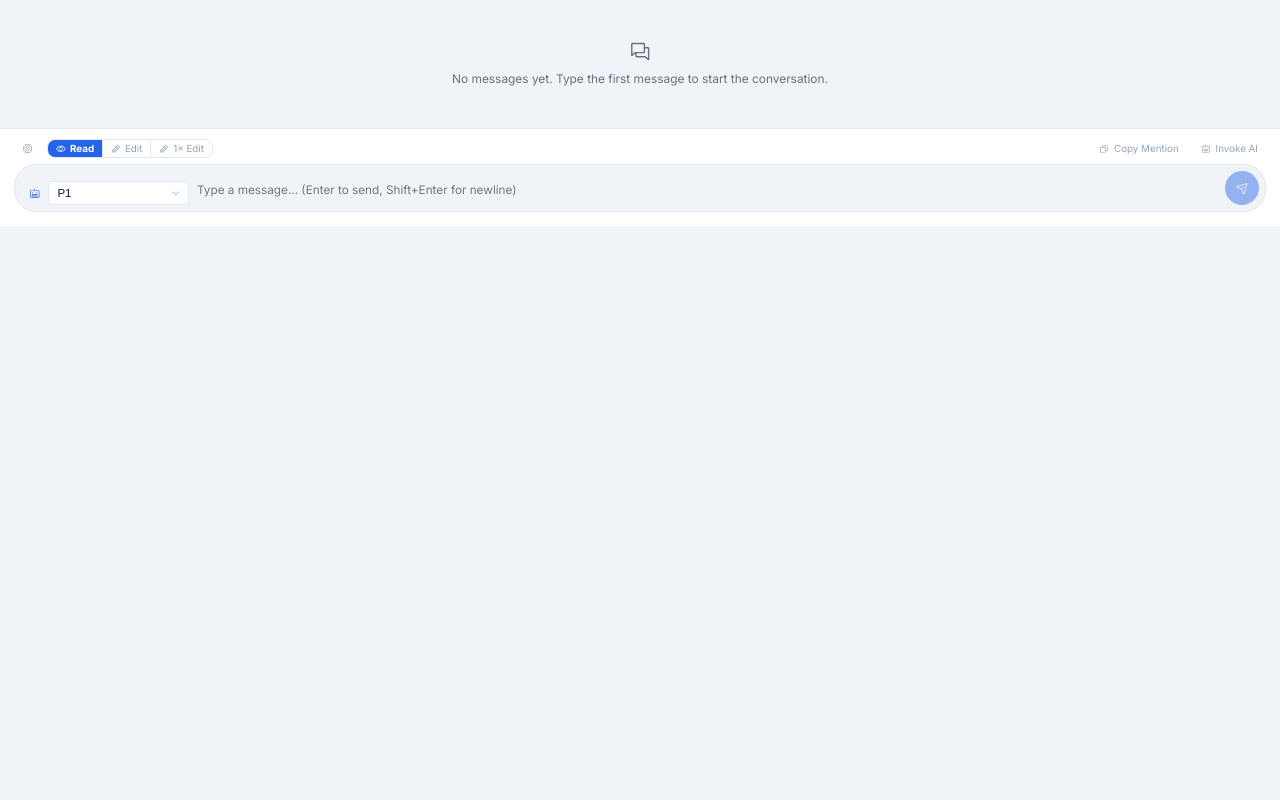
it: ConversationView send-time action › keeps the dialog open and shows the server message when saving fails
Click the button with class "conv-gear-btn": point(28, 149) [14, 140, 41, 157]
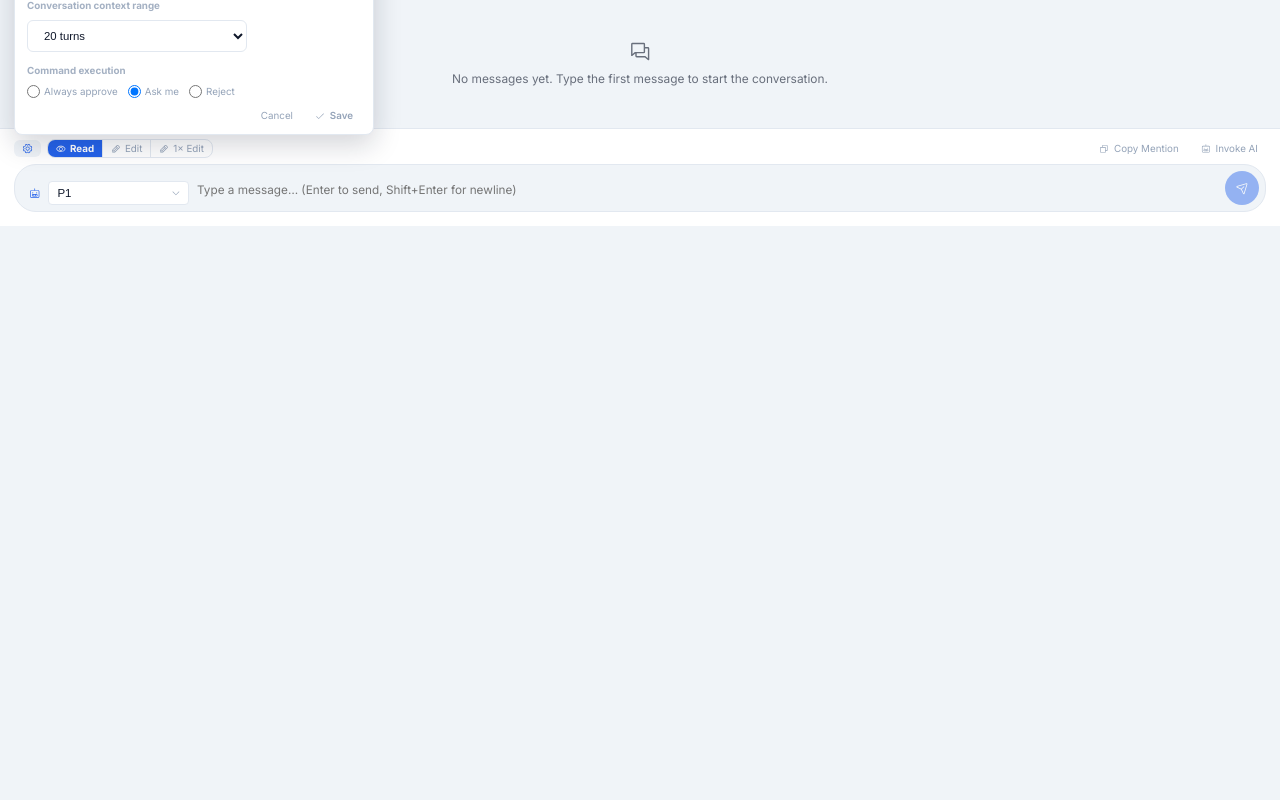
Click the button with class "conv-settings-save": point(334, 116) [307, 107, 361, 124]
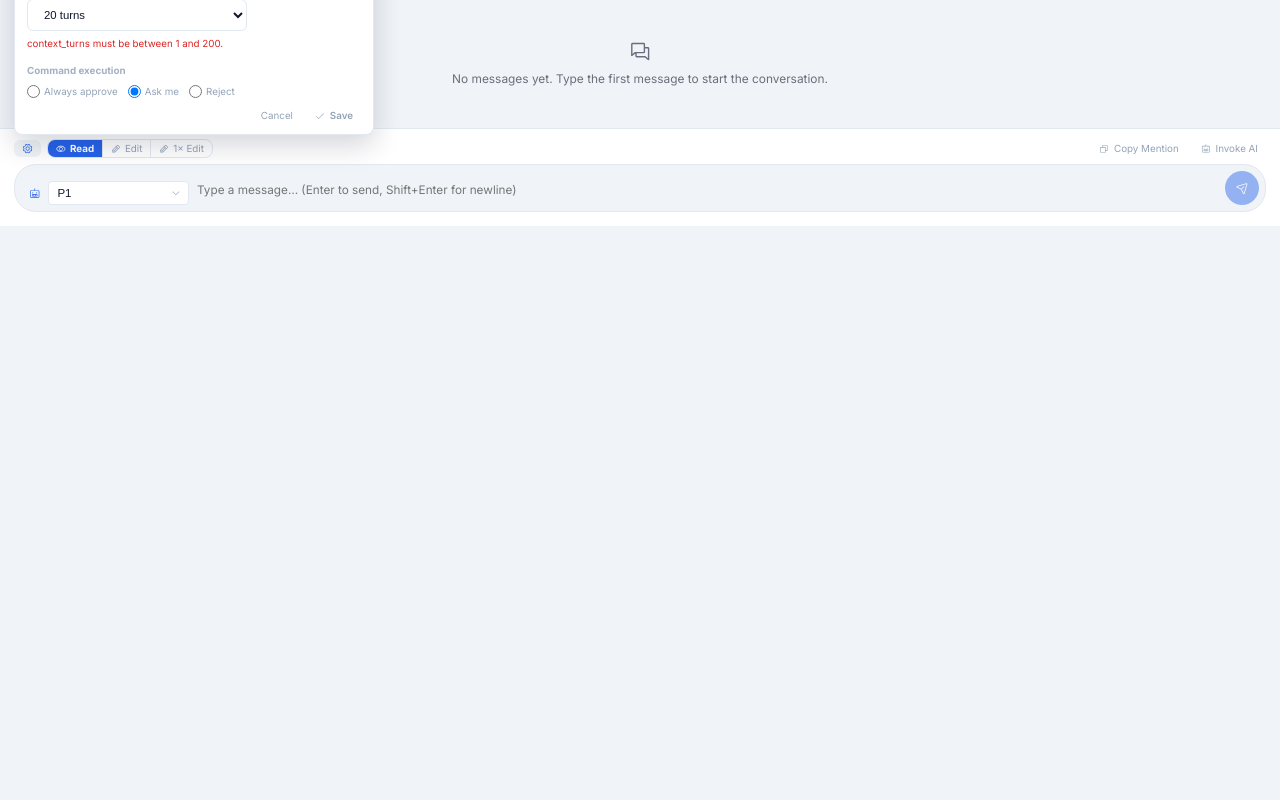
expect the text "context_turns must be between 1 and 200." is shown: met, box [27, 38, 223, 49]
